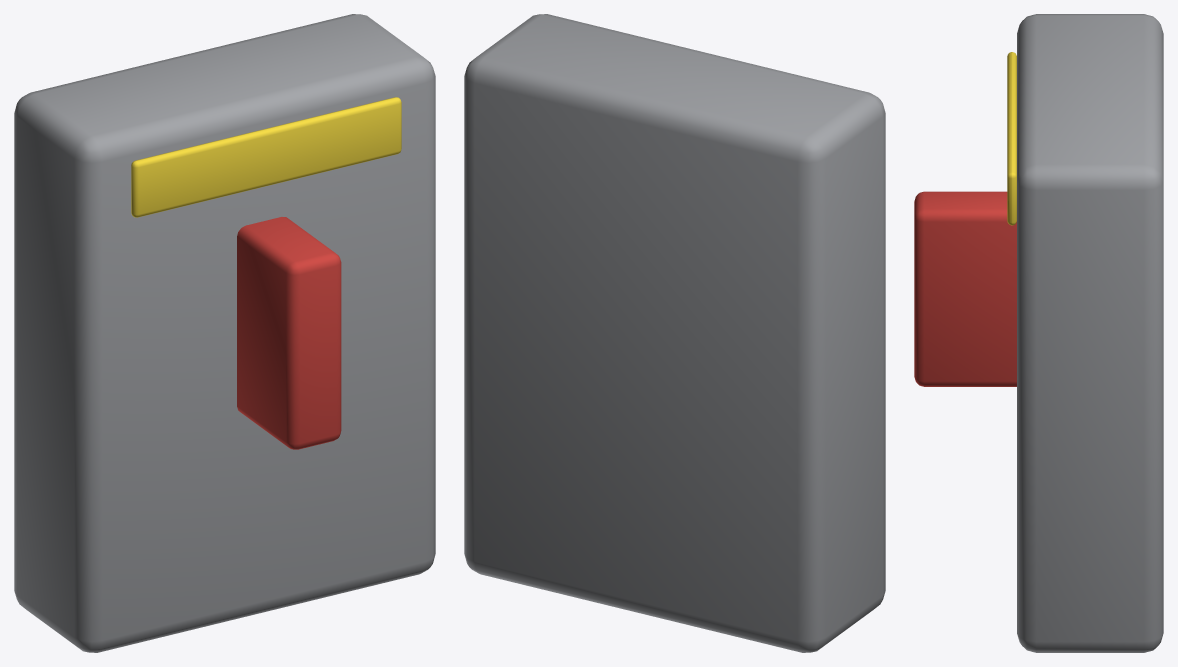
Rendered from breaker.glb.
3 views of the same model, side by side, from view 1: azimuth 30°, elevation 25°; view 2: azimuth 150°, elevation 25°; view 3: azimuth 270°, elevation 25° (orthographic). The views are drawn at different scales.
Parts seen in each view (by area): view 1: box, lever, plate; view 2: box; view 3: box, lever, plate.
Part boxes in pixels (left/top/right/bottom): box: left=14, top=14, right=435, bottom=652; lever: left=237, top=217, right=341, bottom=449; plate: left=131, top=97, right=401, bottom=217; box: left=464, top=14, right=885, bottom=652; box: left=1017, top=14, right=1163, bottom=652; lever: left=914, top=191, right=1016, bottom=386; plate: left=1007, top=52, right=1016, bottom=225.
Bounding box in the file's own units: 0.4 × 0.55 × 0.255.
